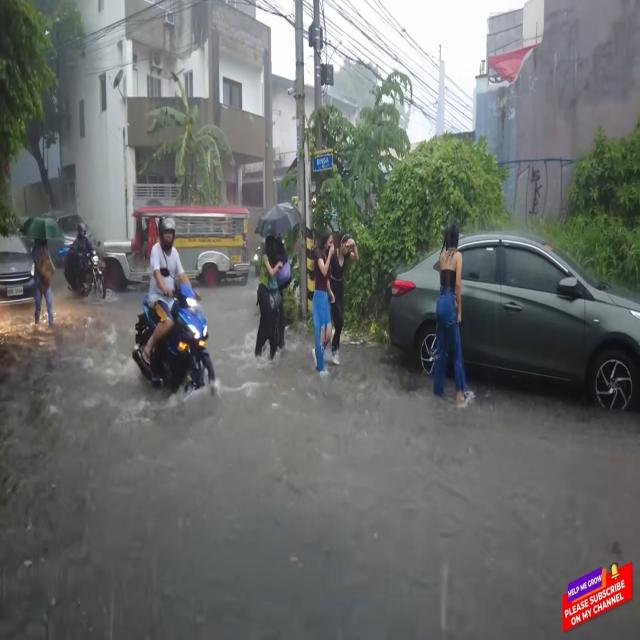full: (156, 212, 178, 255)
